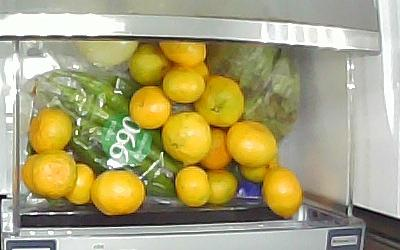tangerine: (195, 77, 246, 131), (162, 112, 212, 164), (226, 122, 278, 169), (92, 171, 145, 215), (261, 169, 304, 220), (27, 108, 73, 154), (34, 151, 78, 198), (125, 44, 170, 87), (128, 86, 172, 129), (161, 67, 205, 103), (175, 165, 210, 206), (200, 129, 233, 171), (202, 171, 238, 205), (65, 164, 93, 205), (239, 154, 278, 182), (158, 43, 206, 65), (22, 154, 43, 193)
